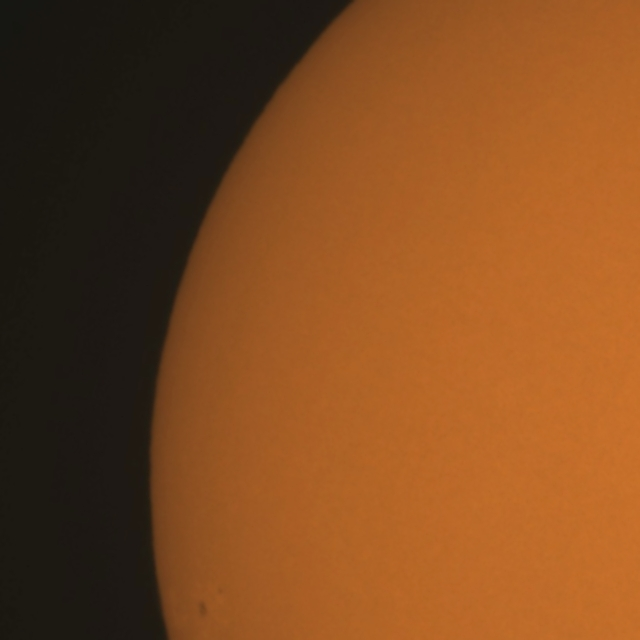sunspot: (195, 592, 225, 620)
